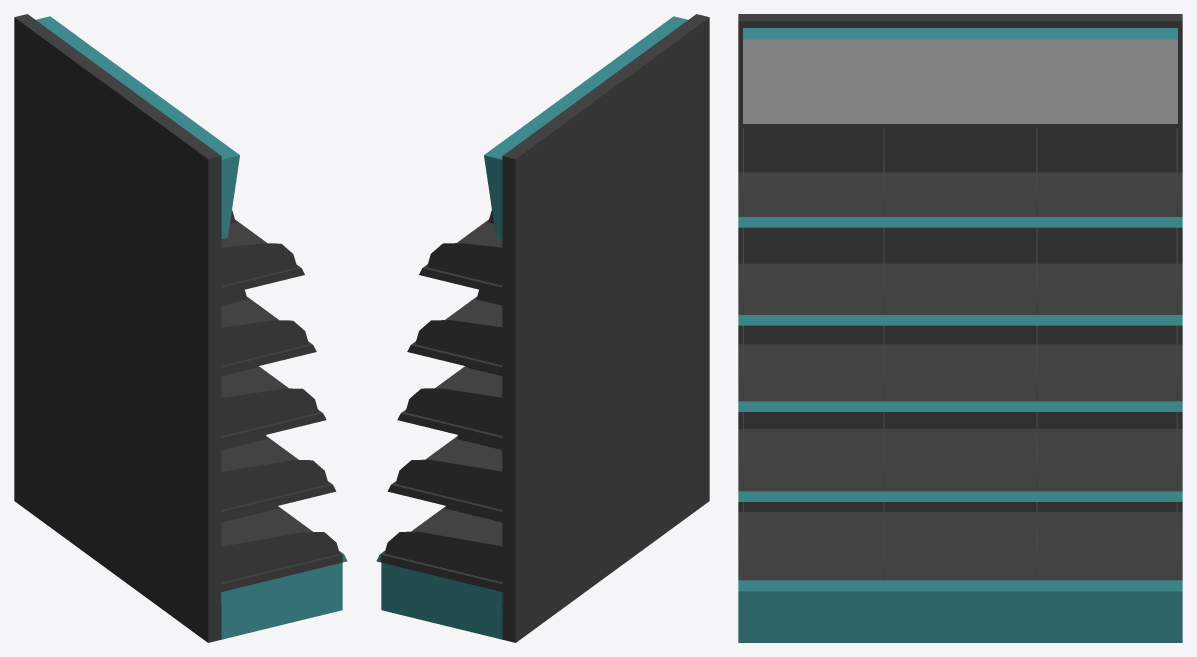
The picture shows the model from 3 angles, left to right: view 1: azimuth 30°, elevation 25°; view 2: azimuth 150°, elevation 25°; view 3: azimuth 270°, elevation 25°; orthographic projection. The views are drawn at different scales.
Visible parts, largest first — view 1: Estante2; view 2: Estante2; view 3: Estante2.
Part boxes in pixels (x1=…): Estante2: x1=14, y1=14, x2=347, y2=642; Estante2: x1=376, y1=14, x2=709, y2=642; Estante2: x1=738, y1=14, x2=1182, y2=642.
Bounding box in the file's own units: 0.0166 × 0.0549 × 0.0399.
